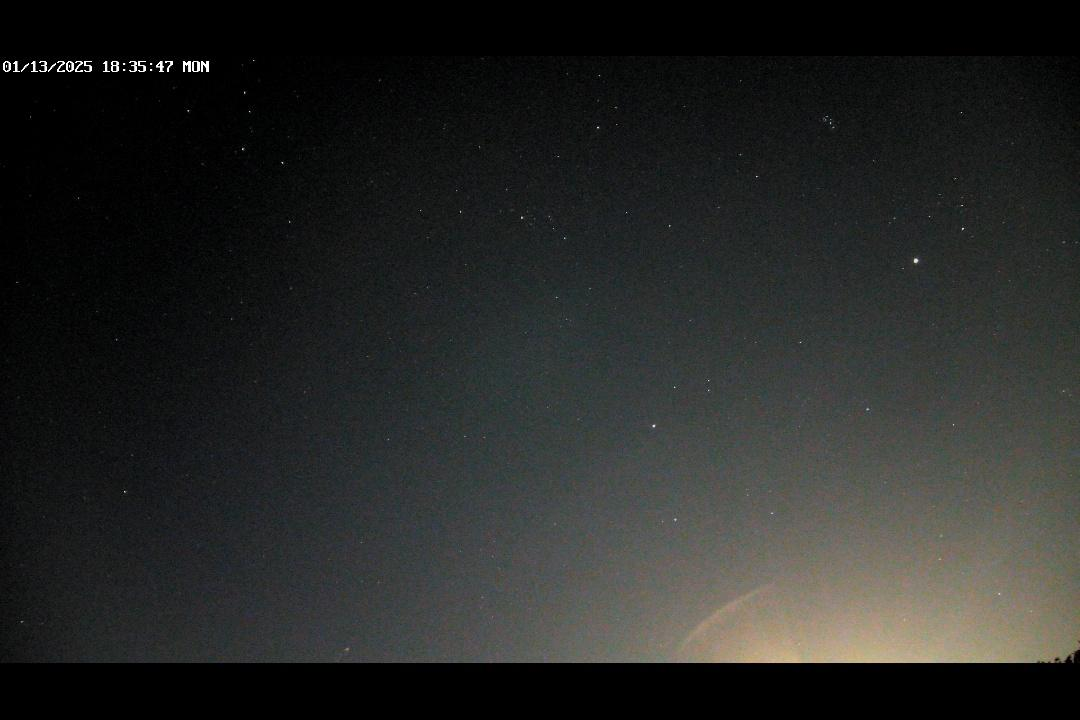Plane: (335, 634, 359, 667)
